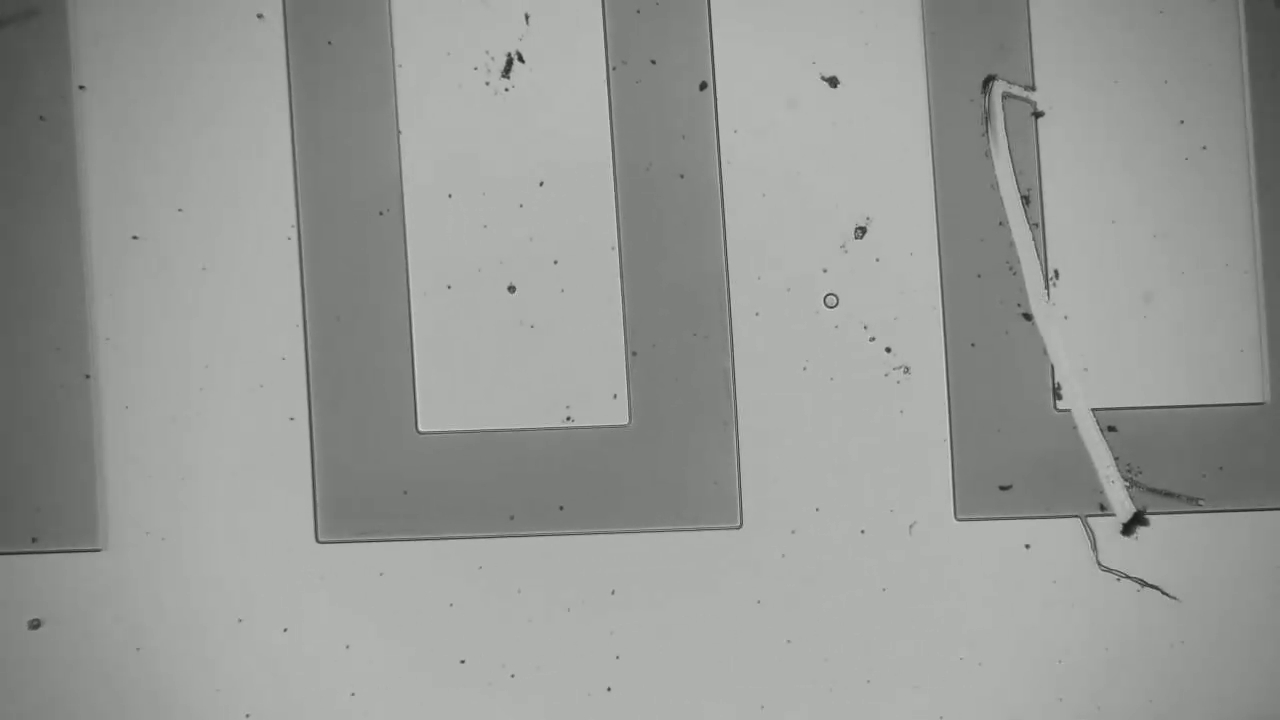Short_circuit: (1072, 380, 1161, 545)
